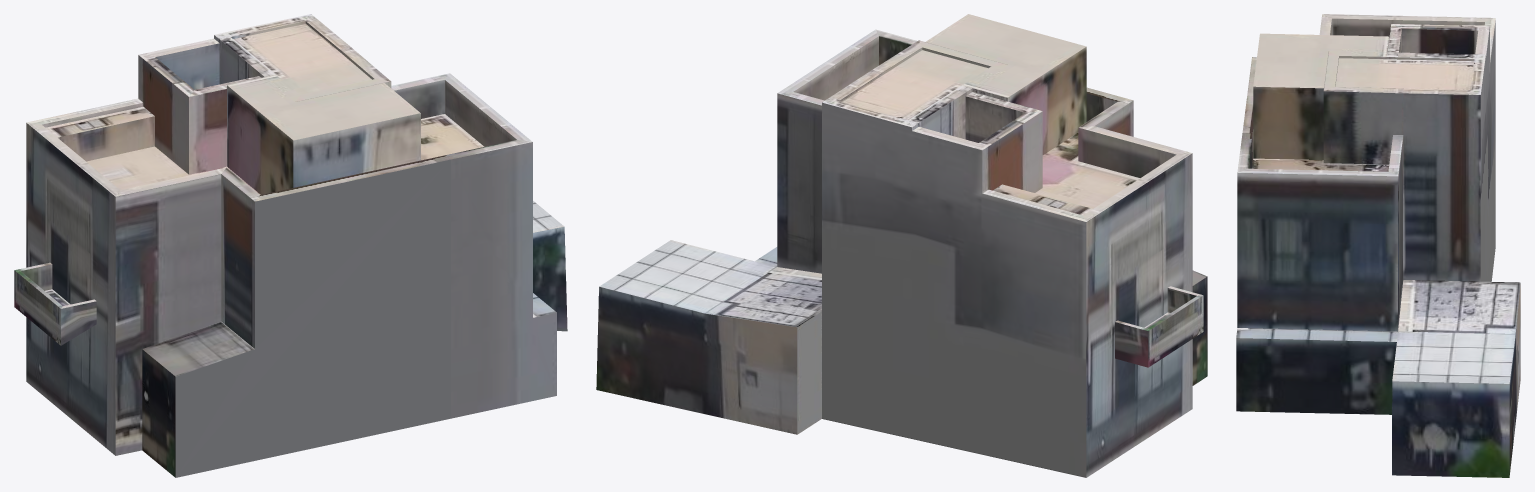
3 renders of one model, left to right at view 1: azimuth 30°, elevation 25°; view 2: azimuth 150°, elevation 25°; view 3: azimuth 270°, elevation 25°, orthographic. The views are drawn at different scales.
Visible parts, largest first — view 1: B283734033901062A0; view 2: B283734033901062A0; view 3: B283734033901062A0.
Boxes of the visible parts, x1,y1,x2,y2 form: B283734033901062A0: (14,14,567,477); B283734033901062A0: (596,14,1207,477); B283734033901062A0: (1236,14,1520,477).
Size of the model in its own units: 19.22 by 11.46 by 10.13.
Materials: 1 (1 with a texture image).
